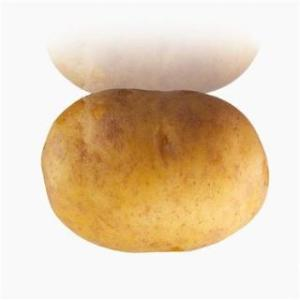potato: (42, 93, 268, 253), (50, 43, 262, 95)
